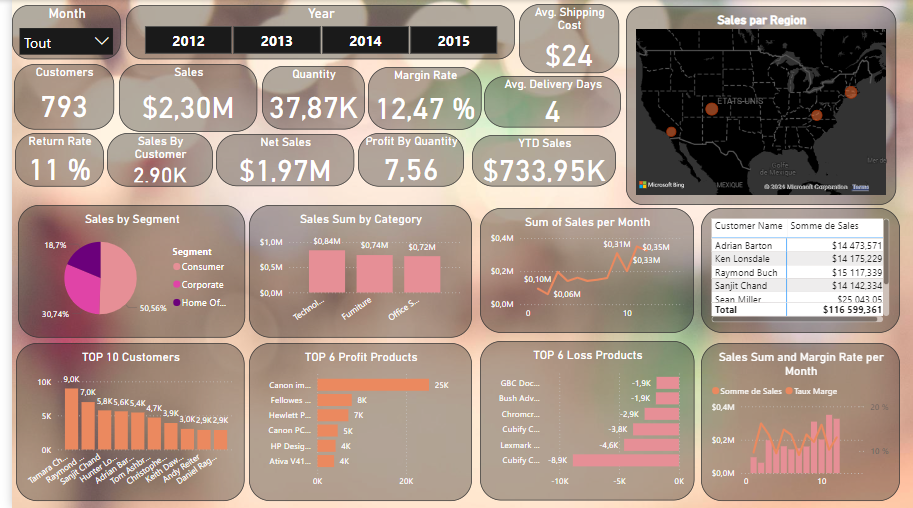

What the dashboard file says about the page in this screenshot:
{"tool":"powerbi","page":{"name":"Page 1","canvas":[1280,720],"ordinal":0},"visuals":[{"type":"slicer","title":"Year","fields":{"Values":["Orders.Year"]},"box":[161.4,7.1,551.4,77.1],"z":0},{"type":"map","title":"Sales par Region","fields":{"Size":["Sum(Orders.Sales)"],"Category":["Orders.Region"]},"box":[870,8.3,383.3,281.7],"z":1000},{"type":"card","title":"Sales","fields":{"Values":["Orders.Somme Sales"]},"box":[151.4,90,195.7,95.7],"z":2000},{"type":"card","title":"Customers","fields":{"Values":["Orders.Customers_Count"]},"box":[3.3,90,141.7,93.3],"z":3000},{"type":"card","title":"Quantity","fields":{"Values":["Orders.Sum_Quantity"]},"box":[354.3,92.9,145.7,90],"z":4000},{"type":"card","title":"Margin Rate","fields":{"Values":["Orders.Taux Marge"]},"box":[504.3,94.3,161.4,88.6],"z":5000},{"type":"card","title":"Avg. Shipping Cost","fields":{"Values":["Orders.Cout Moyen Expedition"]},"box":[718.3,5,141.7,98.3],"z":6000},{"type":"card","title":"Avg. Delivery Days","fields":{"Values":["Orders.Avg. Delivery Days"]},"box":[668.6,107.1,194.3,72.9],"z":7000},{"type":"card","title":"Return Rate","fields":{"Values":["Orders.TauxRetour"]},"box":[4.3,188.6,125.7,75.7],"z":8000},{"type":"card","title":"Sales By Customer","fields":{"Values":["Orders.VentesParClient"]},"box":[134.3,188.6,150,75.7],"z":9000},{"type":"card","title":"Net Sales","fields":{"Values":["Orders.Net Sales"]},"box":[288.6,190,195.7,74.3],"z":10000},{"type":"card","title":"Profit By Quantity","fields":{"Values":["Orders.Profit_By_Quantity"]},"box":[490,188.6,150,75.7],"z":11000},{"type":"card","title":"YTD Sales","fields":{"Values":["Orders.YTD Sales"]},"box":[651.4,191.4,204.3,72.9],"z":12000},{"type":"pieChart","title":"Sales by Segment","fields":{"Category":["Orders.Segment"],"Y":["Sum(Orders.Sales)"]},"box":[8,290,322,188],"z":13000},{"type":"columnChart","title":"TOP 10 Customers","fields":{"Category":["Orders.Customer Name"],"Y":["Sum(Orders.Profit)"]},"box":[6,486,324,224],"z":14000},{"type":"barChart","title":"TOP 6 Profit  Products","fields":{"Category":["Orders.Product Name"],"Y":["Sum(Orders.Profit)"]},"box":[336,486,316,224],"z":15000},{"type":"barChart","title":"TOP 6 Loss  Products","fields":{"Category":["Orders.Product Name"],"Y":["Sum(Orders.Profit)"]},"box":[664,484,304,226],"z":16000},{"type":"clusteredColumnChart","title":"Sales Sum by Category","fields":{"Y":["Sum(Orders.Sales)"],"Category":["Orders.Category"]},"box":[336,290,316,188],"z":17000},{"type":"lineChart","title":"Sum of Sales per Month","fields":{"Category":["Orders.Month"],"Y":["Sum(Orders.Sales)"]},"box":[663.3,295,303.3,176.7],"z":18000},{"type":"pivotTable","fields":{"Rows":["Orders.Customer Name"],"Values":["Sum(Orders.Sales)"]},"box":[976.7,295,281.7,176.7],"z":19000},{"type":"lineStackedColumnComboChart","title":"Sales Sum and Margin Rate per Month","fields":{"Category":["Orders.Month"],"Y":["Sum(Orders.Sales)"],"Y2":["Orders.Taux Marge"]},"box":[976.7,485.6,282.2,224.4],"z":20000},{"type":"slicer","title":"Month","fields":{"Values":["Orders.Month"]},"box":[0,7.1,154.3,77.1],"z":21000}]}

Visuals, with their boxes in screenshot pixels (x1, y1, x2, y2), scaled from the page's 1280x720 canvas onto the 913x508 screenshot:
"Year" slicer: 115/5/508/59
"Sales par Region" map: 621/6/894/205
"Sales" card: 108/64/248/131
"Customers" card: 2/64/103/129
"Quantity" card: 253/66/357/129
"Margin Rate" card: 360/67/475/129
"Avg. Shipping Cost" card: 512/4/613/73
"Avg. Delivery Days" card: 477/76/615/127
"Return Rate" card: 3/133/93/186
"Sales By Customer" card: 96/133/203/186
"Net Sales" card: 206/134/345/186
"Profit By Quantity" card: 350/133/456/186
"YTD Sales" card: 465/135/610/186
"Sales by Segment" pieChart: 6/205/235/337
"TOP 10 Customers" columnChart: 4/343/235/501
"TOP 6 Profit  Products" barChart: 240/343/465/501
"TOP 6 Loss  Products" barChart: 474/341/690/501
"Sales Sum by Category" clusteredColumnChart: 240/205/465/337
"Sum of Sales per Month" lineChart: 473/208/689/333
pivotTable - Orders.Customer Name x Sum(Orders.Sales): 697/208/898/333
"Sales Sum and Margin Rate per Month" lineStackedColumnComboChart: 697/343/898/501
"Month" slicer: 0/5/110/59
